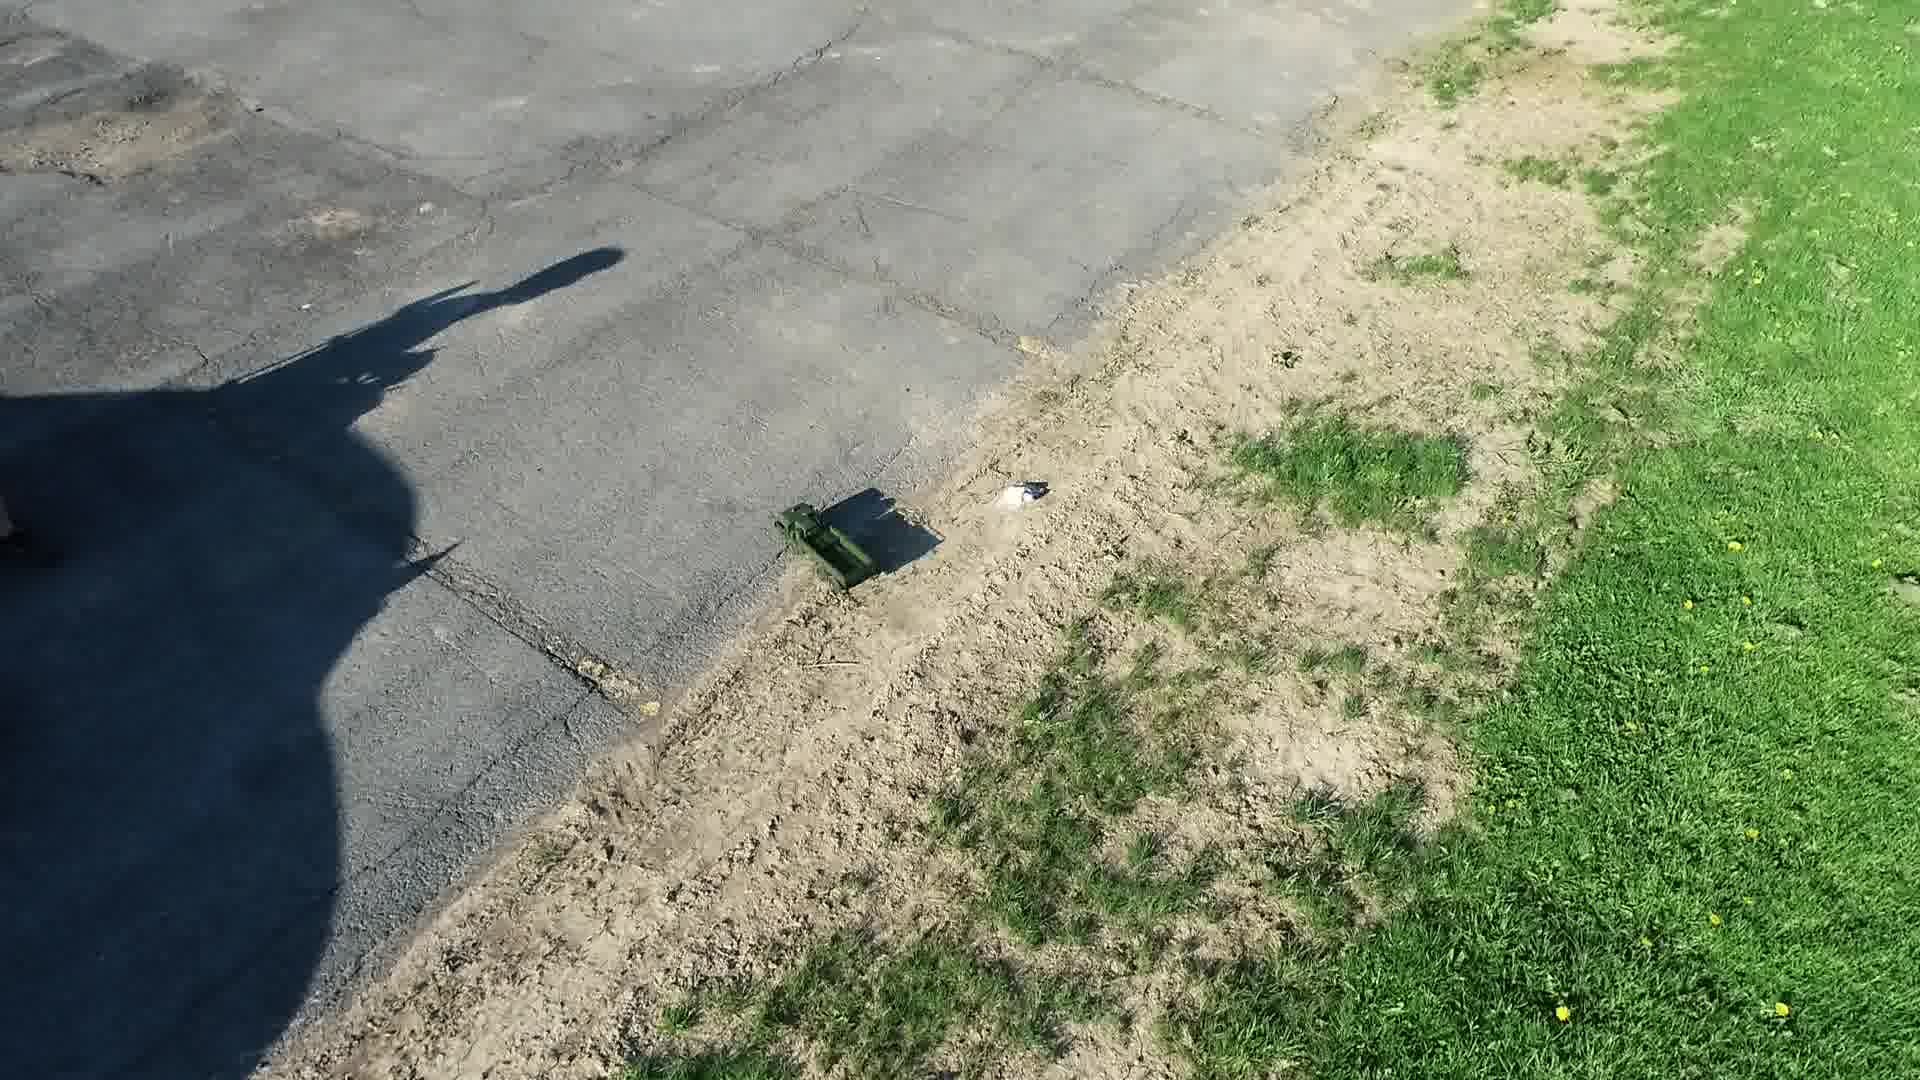transporter9: (765, 498, 891, 609)
